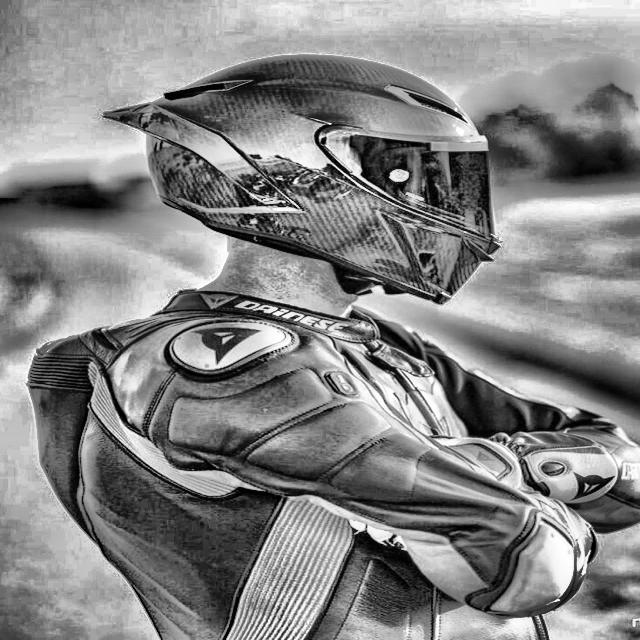Helmet: (55, 45, 525, 312)
